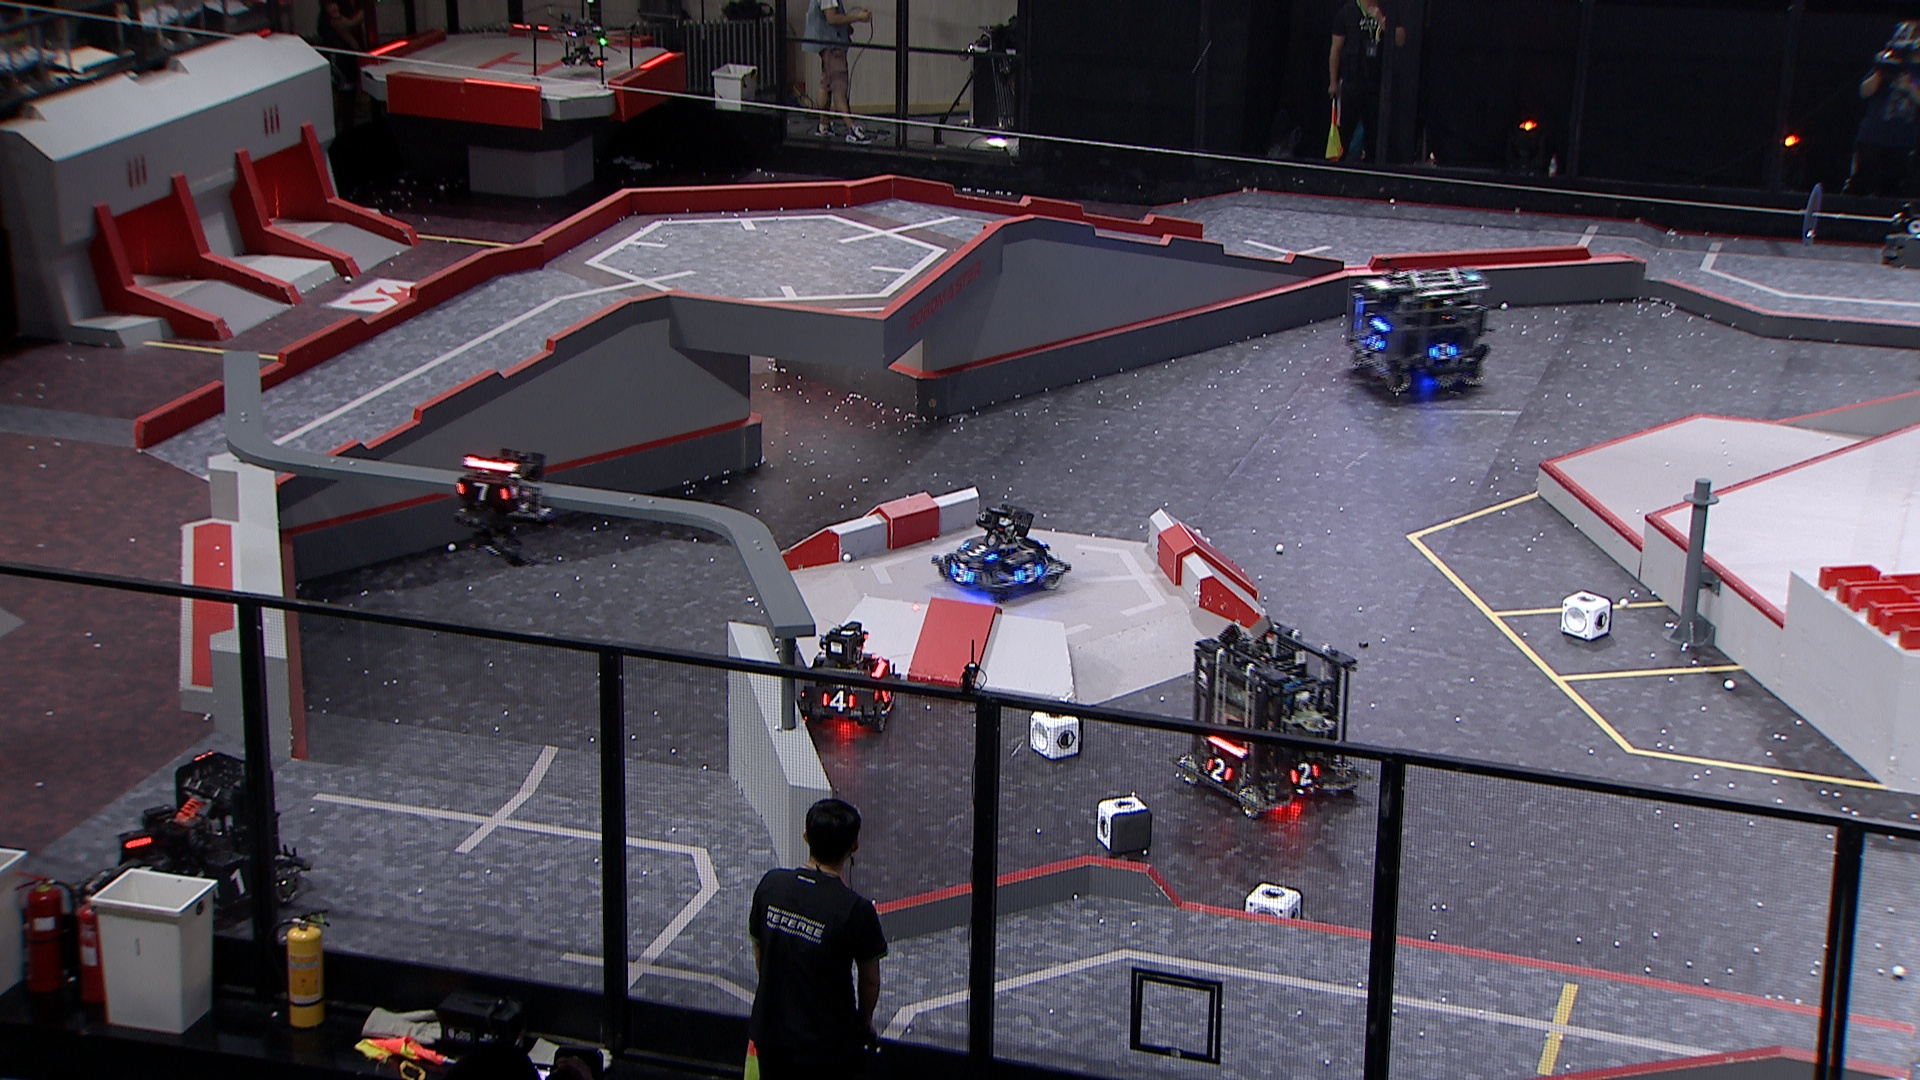armor: (456, 480, 514, 506), (211, 866, 253, 901), (1287, 761, 1323, 789), (822, 688, 858, 713), (1204, 757, 1234, 785), (961, 542, 998, 564), (1011, 560, 1044, 584), (949, 562, 977, 588), (1428, 342, 1461, 363), (1366, 334, 1386, 353)
car: (79, 746, 314, 945), (1168, 618, 1367, 816), (1346, 262, 1489, 398), (928, 505, 1069, 603), (794, 621, 899, 732)
watcher: (451, 446, 555, 568)
